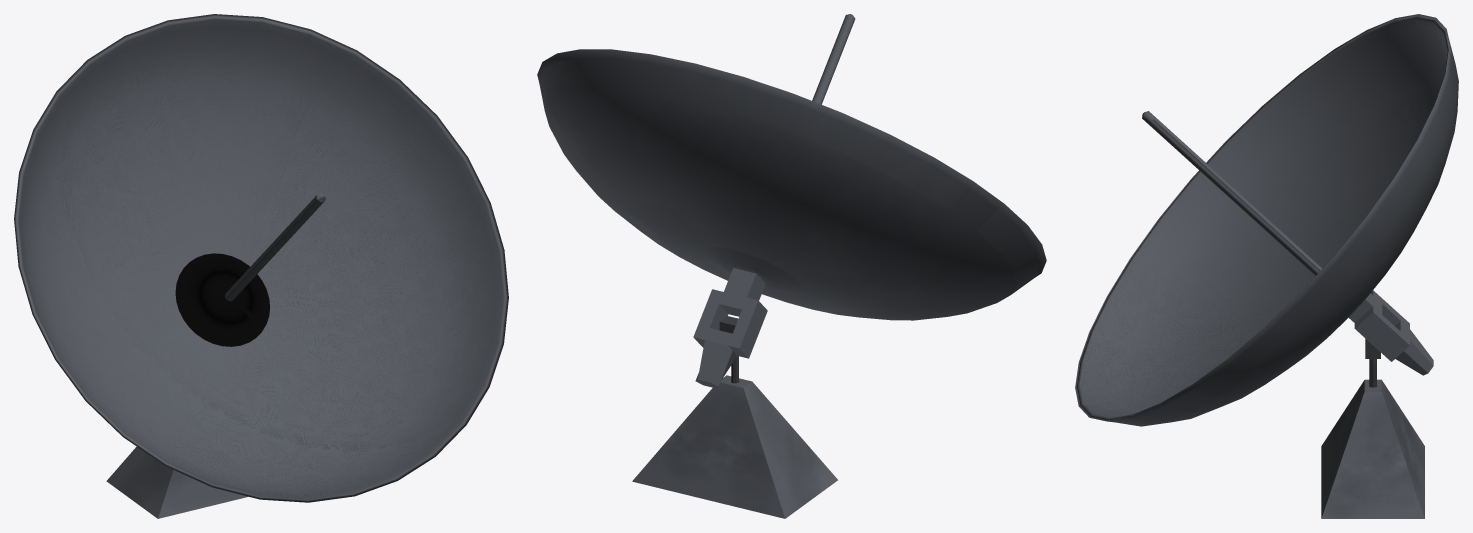
The model's file is SSCRadarDish1.fbx.
3 views of the same model, side by side, from view 1: azimuth 30°, elevation 25°; view 2: azimuth 150°, elevation 25°; view 3: azimuth 270°, elevation 25° (orthographic). The views are drawn at different scales.
Parts seen in each view (by area): view 1: SSCRadar1Dish, SSCRadar1Base; view 2: SSCRadar1Dish, SSCRadar1Base; view 3: SSCRadar1Dish, SSCRadar1Base, SSCRadar1Pivot.
Part boxes in pixels (x1,y1,x2,y2): SSCRadar1Dish: (14, 14, 508, 502); SSCRadar1Base: (106, 446, 248, 518); SSCRadar1Dish: (537, 14, 1046, 388); SSCRadar1Base: (632, 375, 837, 518); SSCRadar1Dish: (1075, 14, 1458, 426); SSCRadar1Base: (1321, 379, 1424, 518); SSCRadar1Pivot: (1365, 338, 1380, 387).
Bounding box in the file's own units: 4080 × 3688 × 2950.
